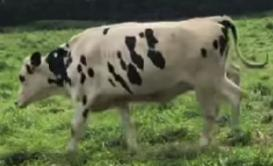cow: (15, 16, 243, 149)
